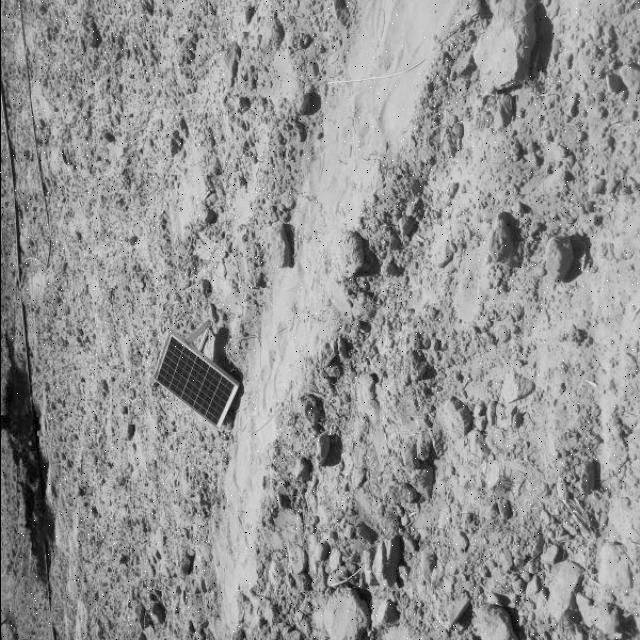Normal Solar Panel: (151, 333, 237, 429)
